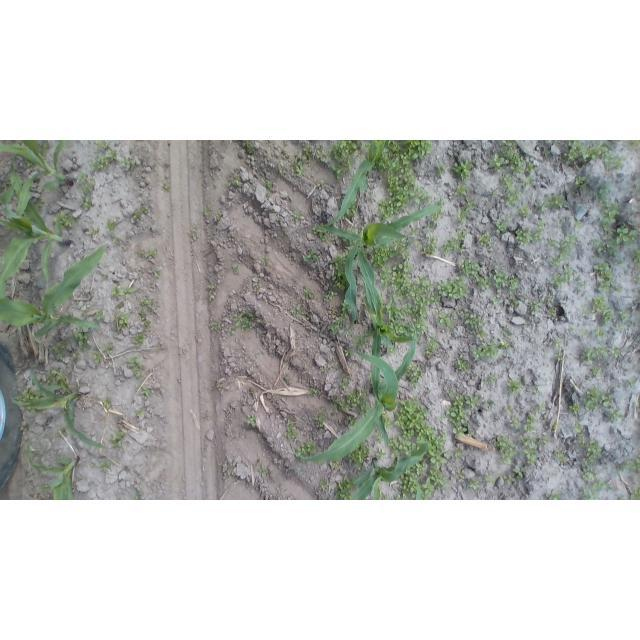Maize: (299, 322, 417, 463), (324, 203, 441, 340), (354, 239, 414, 445), (1, 163, 72, 301), (2, 247, 109, 338), (12, 365, 106, 447), (323, 140, 387, 228), (2, 140, 75, 216), (351, 437, 427, 499), (25, 441, 81, 500)
Weeds: (375, 140, 432, 218), (380, 259, 435, 316), (396, 397, 444, 443), (561, 140, 624, 172), (446, 391, 478, 435), (399, 472, 436, 501), (547, 233, 577, 265), (371, 242, 409, 267), (388, 315, 429, 336), (460, 260, 489, 289), (501, 173, 521, 210), (515, 222, 546, 245), (291, 146, 313, 178), (603, 203, 622, 240), (496, 435, 519, 464), (331, 254, 348, 293), (441, 229, 467, 254), (592, 296, 615, 324), (614, 454, 640, 478), (581, 468, 612, 488), (438, 278, 467, 299), (549, 264, 574, 288), (110, 283, 139, 303), (348, 391, 369, 418), (332, 141, 361, 160), (52, 210, 77, 231), (91, 151, 116, 172), (231, 313, 252, 336), (388, 437, 411, 458), (615, 225, 639, 245), (472, 343, 498, 361), (332, 478, 353, 500), (330, 161, 354, 180), (53, 339, 70, 365), (507, 153, 525, 177), (327, 394, 348, 414), (453, 158, 472, 180), (311, 223, 329, 246), (584, 386, 601, 410), (430, 443, 447, 466), (598, 279, 624, 294), (252, 460, 272, 479), (326, 319, 346, 338), (116, 310, 131, 334), (437, 311, 453, 333), (593, 183, 611, 202), (594, 261, 614, 278), (493, 268, 510, 288), (127, 356, 143, 377), (296, 441, 317, 457), (332, 300, 349, 319), (465, 313, 485, 329), (406, 365, 422, 385), (319, 361, 340, 376), (431, 470, 449, 487), (352, 334, 370, 351), (427, 211, 444, 229), (103, 217, 119, 236), (589, 237, 605, 256), (315, 143, 330, 163), (587, 439, 602, 459), (380, 412, 394, 433), (351, 446, 369, 462), (464, 476, 482, 492), (599, 390, 615, 408), (581, 485, 600, 500), (46, 370, 66, 384), (133, 205, 149, 222), (293, 303, 309, 320), (300, 284, 317, 300), (424, 236, 439, 254), (75, 330, 88, 350), (110, 431, 126, 447), (425, 337, 439, 355), (490, 153, 504, 171), (132, 331, 145, 350), (484, 371, 499, 387), (552, 448, 569, 462), (536, 197, 549, 215), (629, 246, 640, 267), (581, 348, 596, 363), (240, 140, 254, 156), (523, 448, 537, 464), (338, 372, 352, 388), (520, 435, 537, 448), (524, 415, 537, 432), (625, 377, 639, 392), (244, 412, 257, 428), (188, 224, 200, 241), (81, 194, 93, 211), (502, 140, 519, 152), (572, 220, 589, 232), (286, 421, 297, 439), (546, 489, 564, 500), (303, 249, 317, 263), (323, 287, 337, 301), (593, 326, 607, 340), (537, 435, 552, 448), (607, 240, 619, 256), (91, 349, 103, 365), (93, 140, 112, 150), (456, 358, 470, 371), (596, 344, 609, 358), (609, 408, 623, 421), (590, 365, 604, 378), (207, 284, 217, 302), (139, 249, 157, 259), (55, 426, 70, 438), (523, 174, 534, 190), (20, 390, 37, 400), (551, 195, 564, 208), (509, 380, 522, 393), (94, 310, 107, 323), (513, 466, 526, 479), (620, 308, 633, 321), (291, 210, 305, 222), (485, 472, 497, 486), (529, 300, 541, 314), (480, 233, 492, 247), (558, 215, 569, 230), (501, 323, 512, 338), (577, 432, 587, 448), (576, 178, 588, 191), (121, 156, 134, 168), (374, 447, 386, 460), (435, 163, 447, 176), (75, 171, 89, 182), (353, 464, 367, 475), (611, 345, 622, 359), (517, 206, 531, 217), (509, 277, 520, 291), (455, 466, 466, 479), (543, 292, 554, 305), (86, 227, 100, 237), (554, 335, 564, 349), (349, 201, 357, 218), (232, 263, 241, 278), (500, 474, 515, 483), (582, 303, 591, 318), (261, 178, 273, 189), (83, 182, 95, 193), (456, 184, 467, 196), (497, 221, 508, 233), (458, 208, 469, 220), (100, 460, 112, 471), (476, 329, 488, 340), (133, 407, 145, 418), (202, 411, 213, 423), (309, 387, 321, 398), (453, 446, 464, 458), (553, 351, 565, 362), (202, 204, 212, 217), (104, 343, 114, 356), (18, 421, 28, 434), (209, 322, 223, 331), (548, 307, 557, 321), (534, 384, 543, 398), (485, 399, 496, 410), (506, 404, 517, 415), (616, 323, 627, 334), (629, 141, 640, 152), (540, 148, 551, 159), (412, 240, 422, 252), (140, 299, 152, 309), (552, 422, 561, 435), (490, 186, 499, 199), (374, 430, 382, 444), (569, 403, 579, 414), (500, 341, 511, 351), (143, 320, 153, 331), (330, 461, 340, 472), (616, 258, 626, 269), (279, 149, 291, 158), (344, 348, 353, 360), (277, 163, 284, 178), (233, 174, 241, 187), (112, 236, 122, 246), (161, 183, 171, 193), (314, 417, 324, 427), (465, 198, 474, 209), (135, 489, 144, 500), (27, 406, 38, 415), (24, 161, 36, 169), (409, 226, 419, 235), (315, 179, 325, 188), (142, 386, 151, 396), (577, 282, 587, 291), (453, 310, 463, 319), (102, 397, 111, 407), (573, 422, 583, 431), (275, 486, 284, 496), (579, 328, 589, 337), (318, 480, 326, 491), (538, 403, 546, 414), (155, 266, 162, 278), (631, 488, 638, 500), (526, 163, 535, 172), (438, 198, 447, 207), (510, 418, 519, 427), (303, 364, 312, 373), (282, 228, 290, 238), (388, 346, 398, 354), (491, 296, 499, 306), (511, 298, 520, 306), (73, 351, 81, 360), (80, 309, 88, 318), (262, 254, 269, 264), (635, 179, 640, 193), (346, 416, 354, 424), (265, 190, 272, 199), (216, 212, 223, 221), (139, 310, 146, 319), (363, 144, 371, 151), (285, 378, 292, 386), (524, 321, 531, 329), (568, 327, 575, 335), (216, 382, 222, 391), (633, 274, 639, 283), (544, 141, 554, 146), (255, 277, 262, 284), (91, 462, 98, 469), (506, 214, 512, 222), (575, 275, 581, 283), (277, 214, 282, 223), (268, 206, 274, 213), (253, 285, 259, 292), (530, 407, 536, 414)
